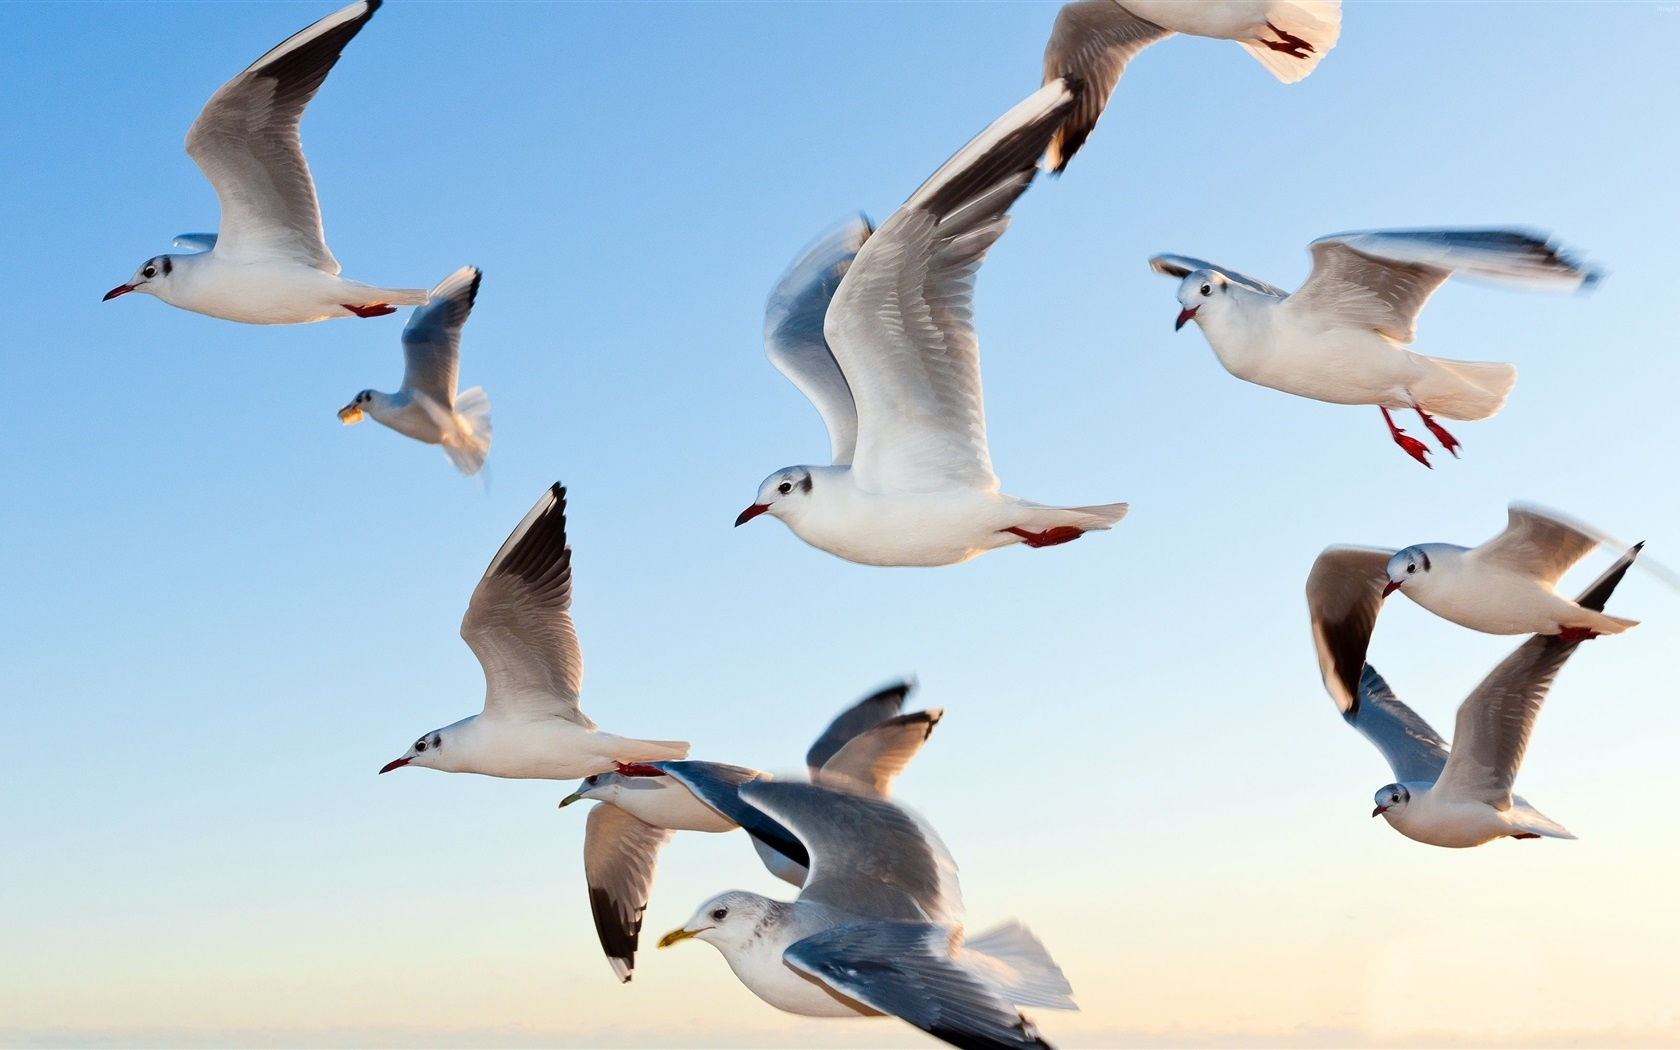bird: (708, 80, 1124, 572), (630, 702, 1074, 1042), (1139, 207, 1604, 460), (90, 1, 438, 330), (1318, 540, 1659, 847), (380, 477, 698, 781), (1307, 479, 1680, 719), (519, 721, 830, 982), (1024, 1, 1355, 172), (334, 260, 504, 485)
